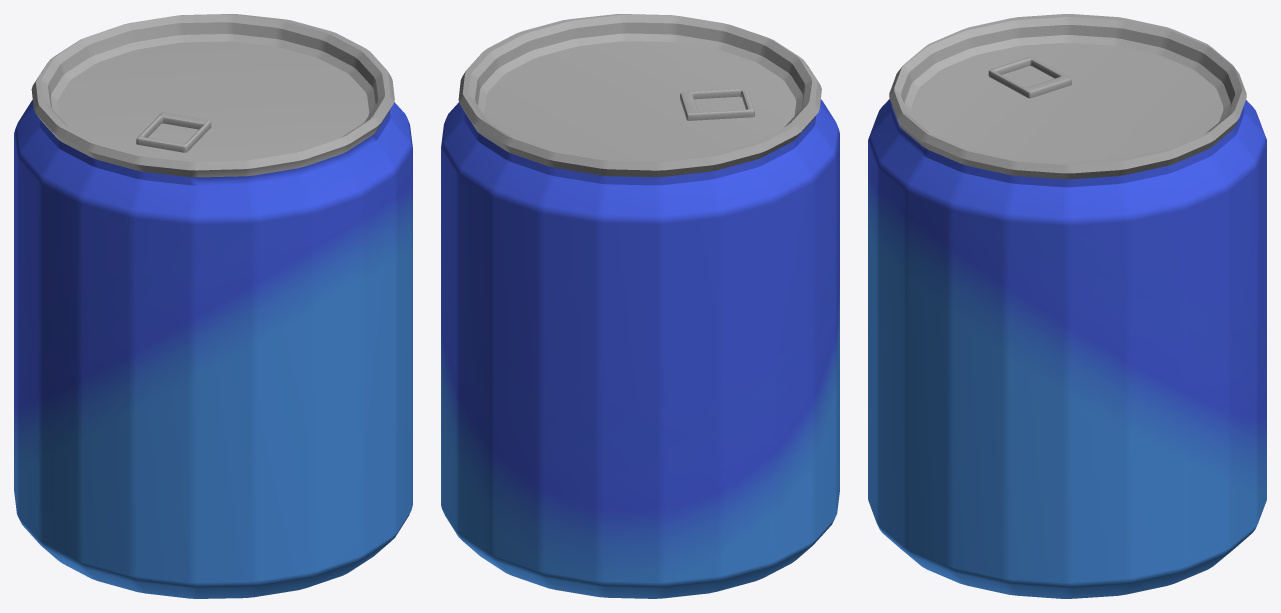
File: Ürün22.fbx
3 renders of one model, left to right at view 1: azimuth 30°, elevation 25°; view 2: azimuth 150°, elevation 25°; view 3: azimuth 270°, elevation 25°, orthographic.
Visible parts, largest first — view 1: pCylinder13; view 2: pCylinder13; view 3: pCylinder13.
Part boxes in pixels (bbox=[...]): pCylinder13: bbox=[14, 14, 412, 598]; pCylinder13: bbox=[441, 14, 839, 598]; pCylinder13: bbox=[868, 14, 1266, 598].
Size of the model in its own units: 11.57 by 14.02 by 11.57.
